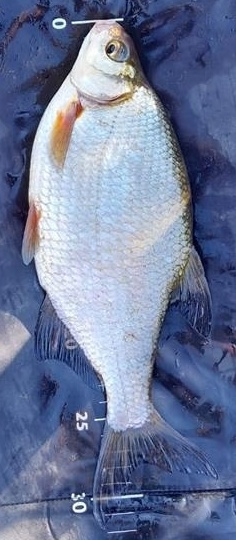Blicca bjoerkna: (20, 20, 216, 520)
